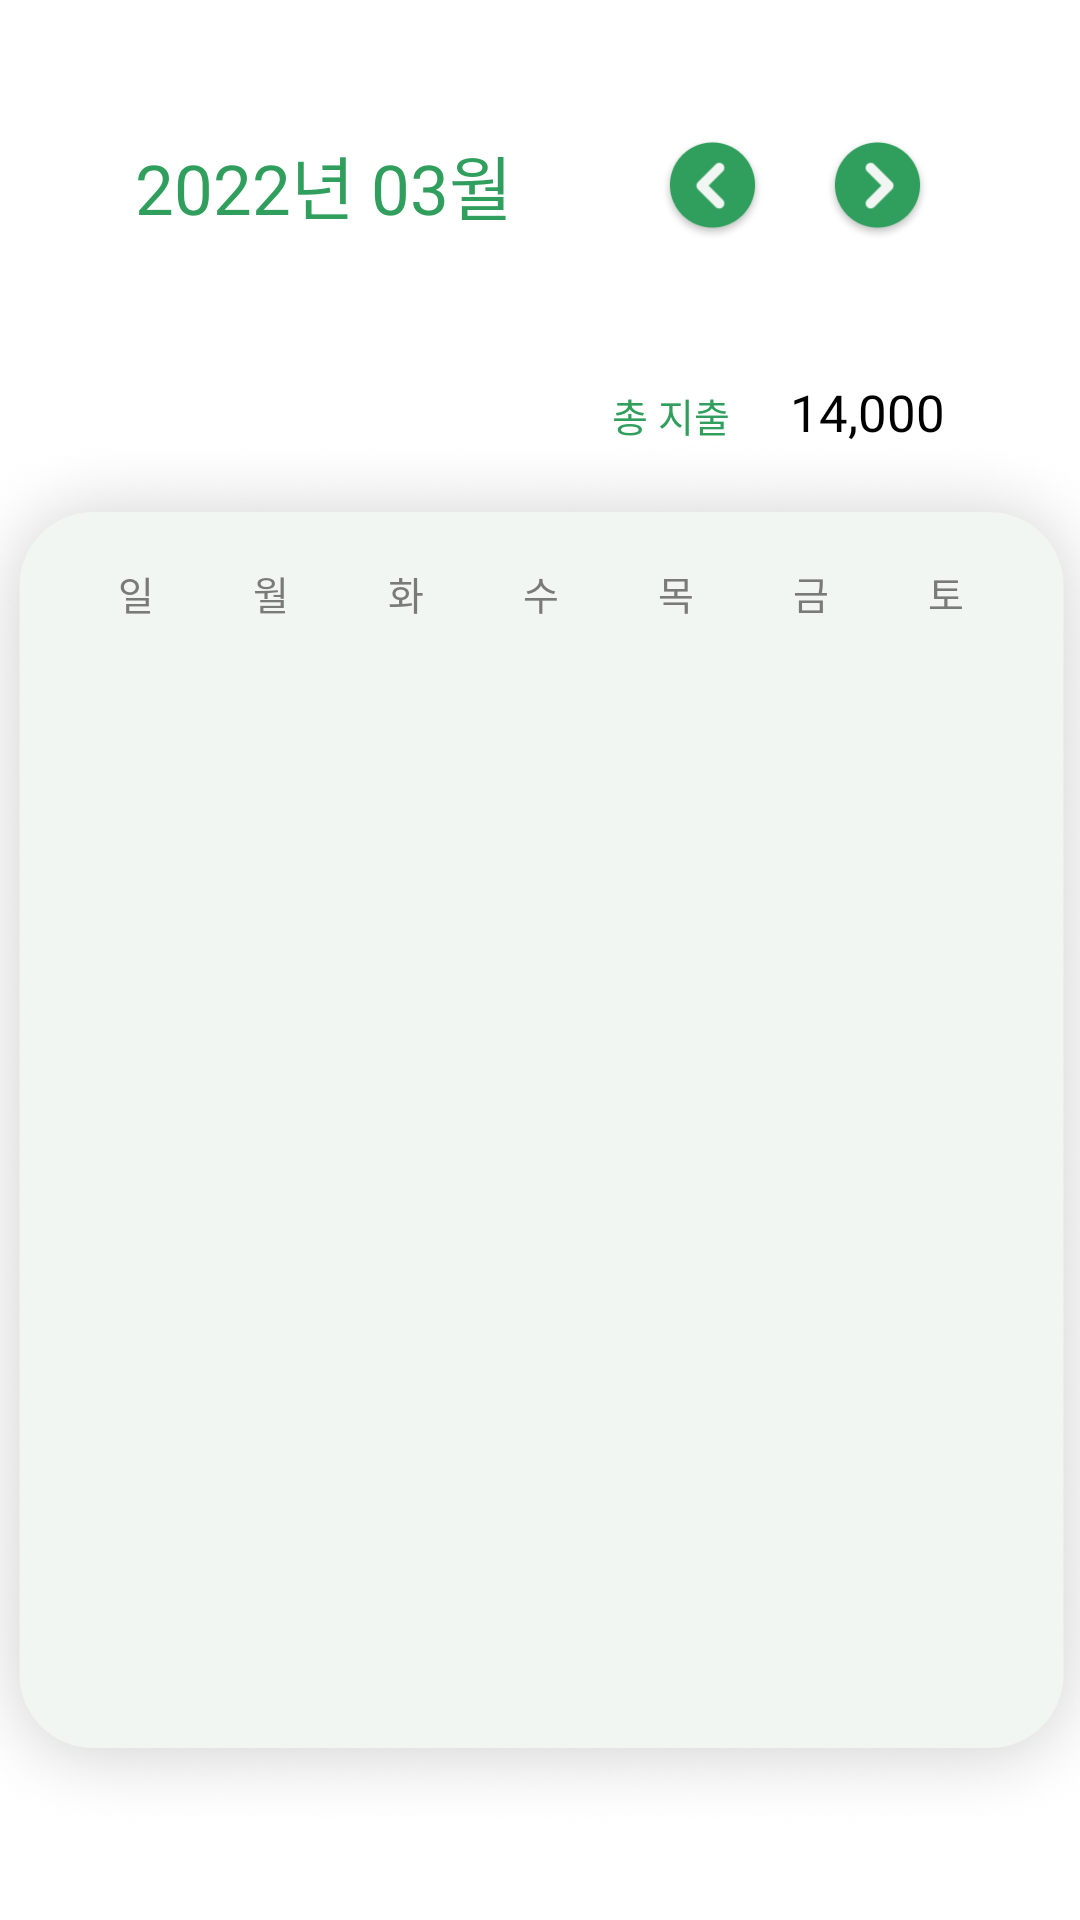

Point at icon controls on the screen. Image size 1080*1920, points as (x=x, y=y).
cal leftbutton: (x=712, y=187)
cal rightbutton: (x=877, y=187)
